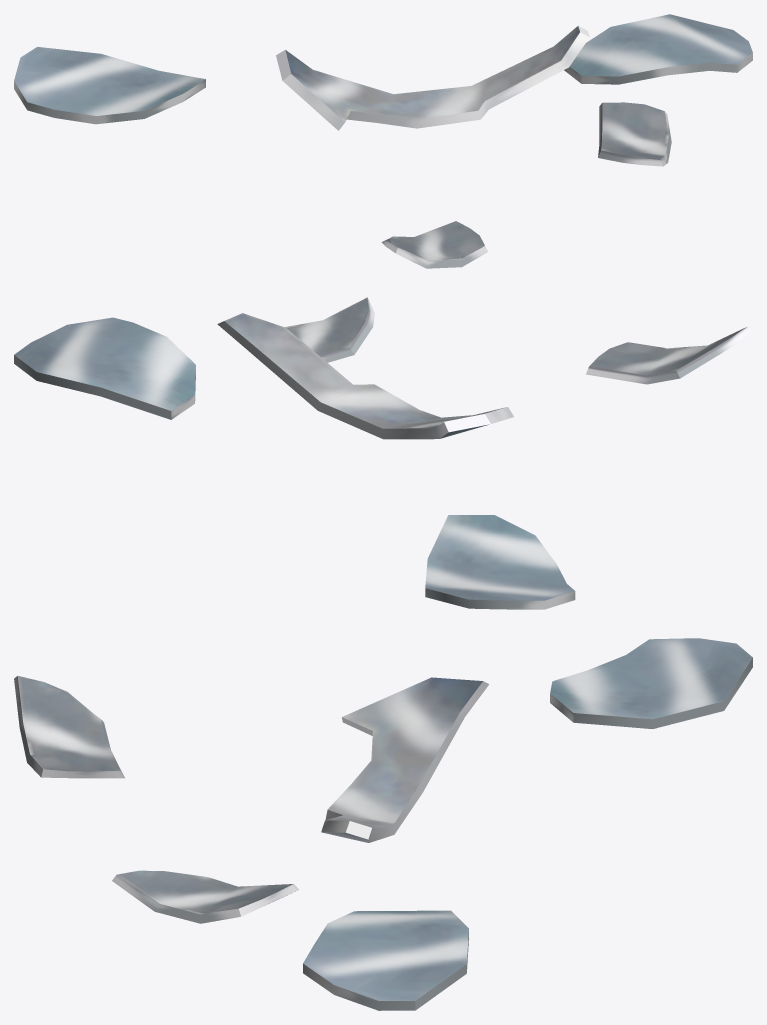
Rendered from TuShuGuan_01_bolisuipian_01.FBX.
3 views of the same model, one above another, from view 1: azimuth 30°, elevation 25°; view 2: azimuth 150°, elevation 25°; view 3: azimuth 270°, elevation 25° (orthographic). The views are drawn at different scales.
Visible parts, largest first — view 1: CeSuo_01_bolisuipian_01; view 2: CeSuo_01_bolisuipian_01; view 3: CeSuo_01_bolisuipian_01.
Boxes of the visible parts, left/top/right/bottom form: CeSuo_01_bolisuipian_01: left=14, top=14, right=752, bottom=268; CeSuo_01_bolisuipian_01: left=14, top=297, right=752, bottom=609; CeSuo_01_bolisuipian_01: left=14, top=638, right=752, bottom=1010.
Bounding box in the file's own units: 151 × 17.68 × 132.
